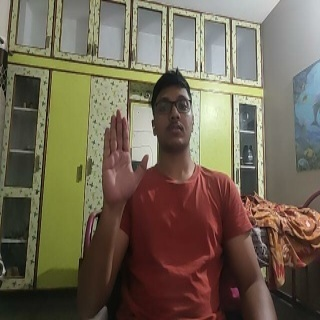Face: (149, 69, 196, 160)
Hello: (97, 108, 150, 209)
